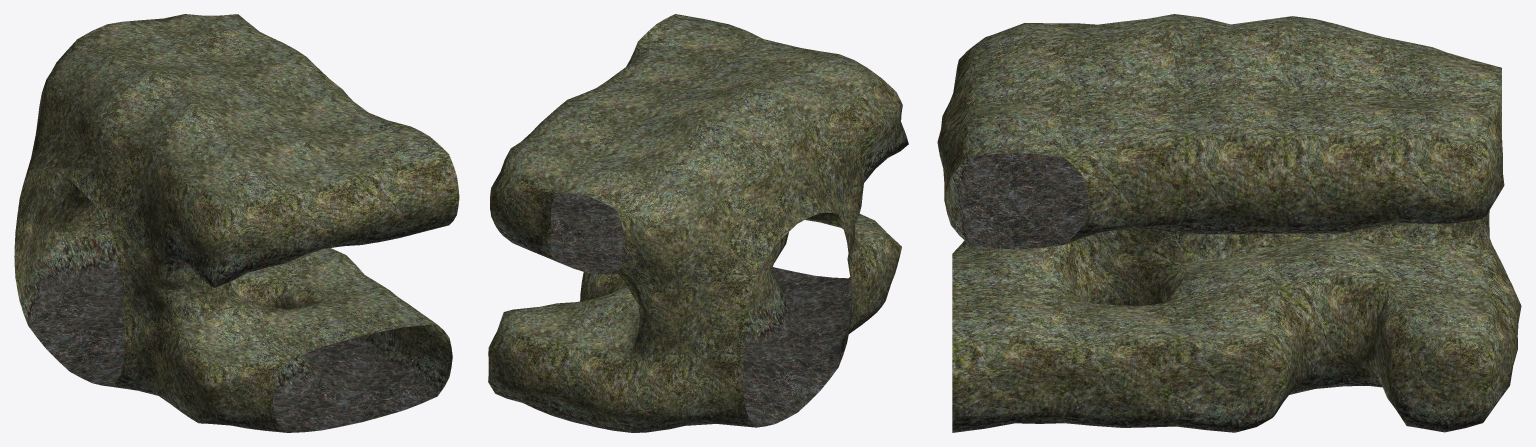
The model's file is thm_all_cave_s03_damprock_r5_r5.fbx.
3 renders of one model, left to right at view 1: azimuth 30°, elevation 25°; view 2: azimuth 150°, elevation 25°; view 3: azimuth 270°, elevation 25°, orthographic. The views are drawn at different scales.
Parts seen in each view (by area): view 1: mesh_node; view 2: mesh_node; view 3: mesh_node.
Boxes of the visible parts, x1,y1,x2,y2 form: mesh_node: (14, 14, 459, 432); mesh_node: (488, 14, 908, 432); mesh_node: (937, 14, 1521, 432).
Bounding box in the file's own units: 26.95 × 28.15 × 43.27.
